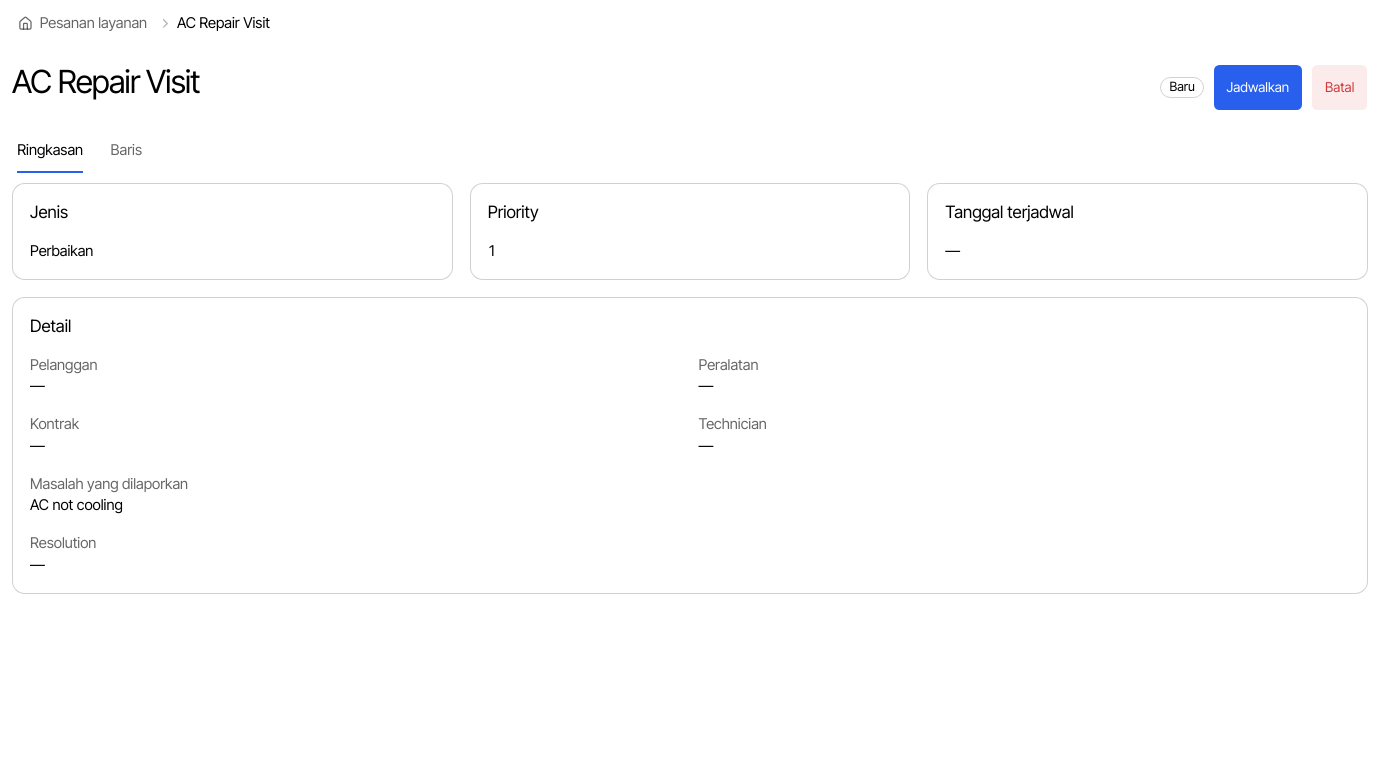
ServiceOrderDetail extra2 › shows the empty lines state
The width and height of the screenshot is (1378, 768).
Expected: the heading "AC Repair Visit" is shown, [12,64,200,100]
Click the tab "Baris": x=126, y=151 [110,128,143,174]
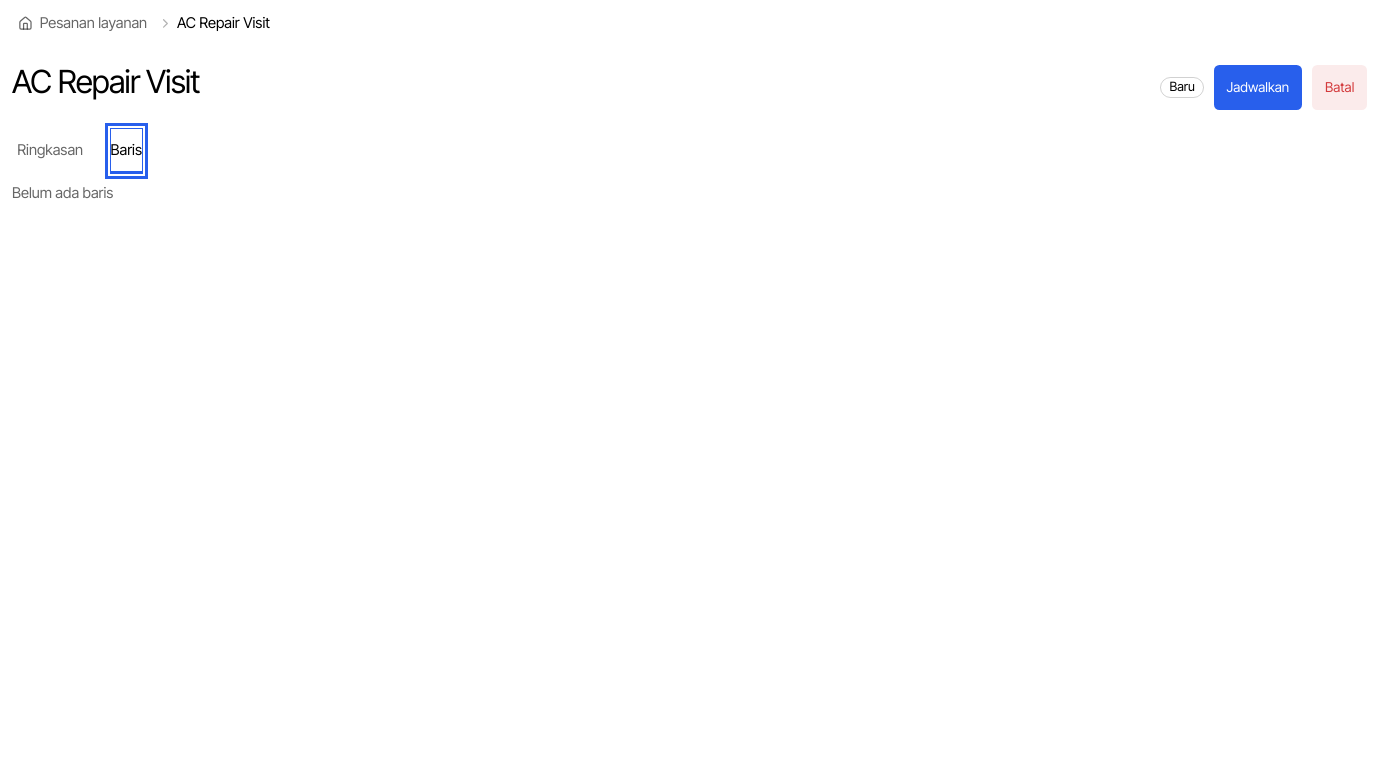
Now the text "Belum ada baris" is shown, box [12,184,113,202]
